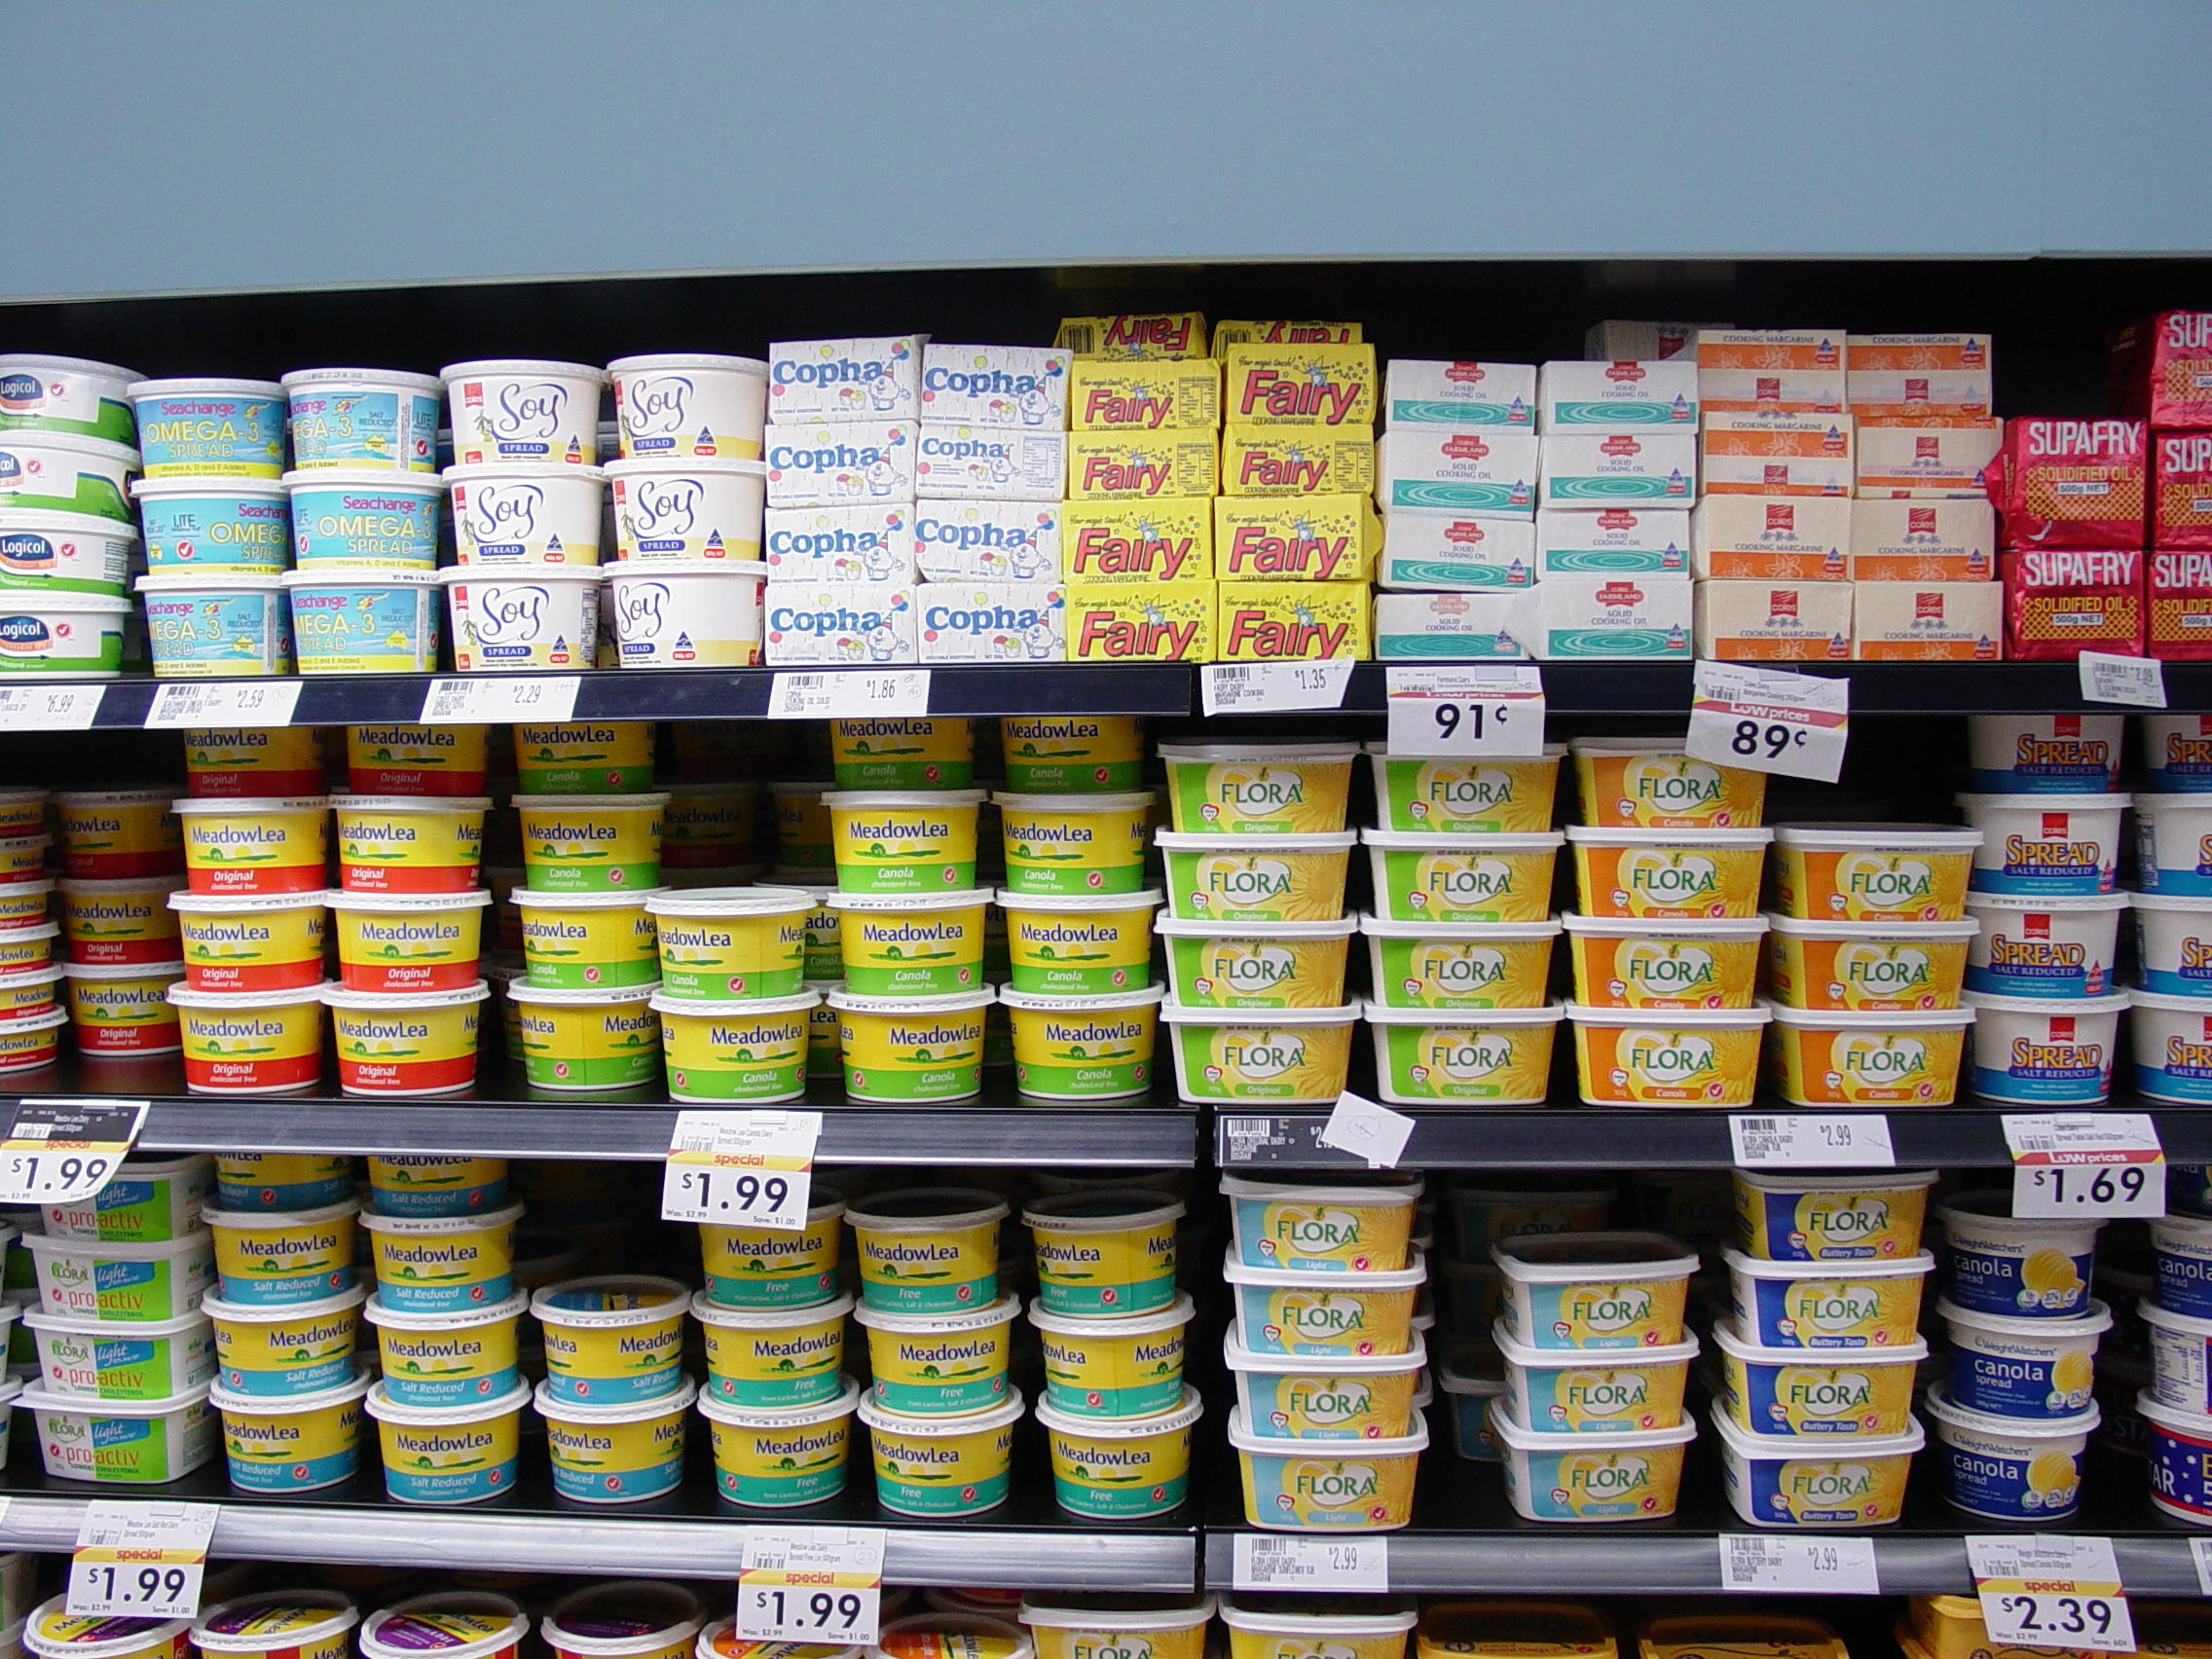Misplacement: (1425, 1173, 1740, 1535), (1764, 690, 1979, 1114), (509, 1164, 716, 1516), (655, 720, 824, 1107)
